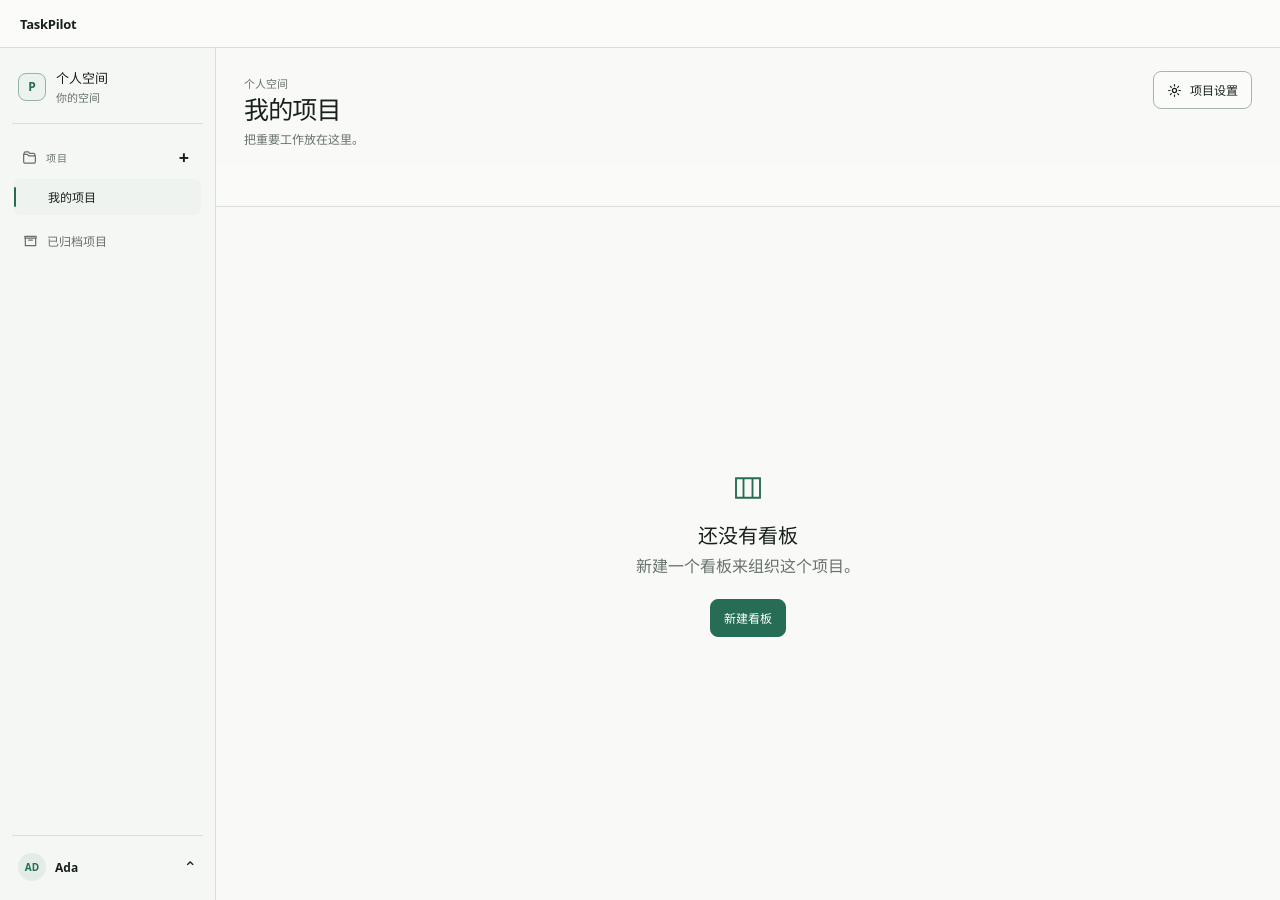
personal Workspace Project home › creates a Project with one request id and edits its real fields
Click the button named "新建项目": click(184, 157) [169,142,199,172]
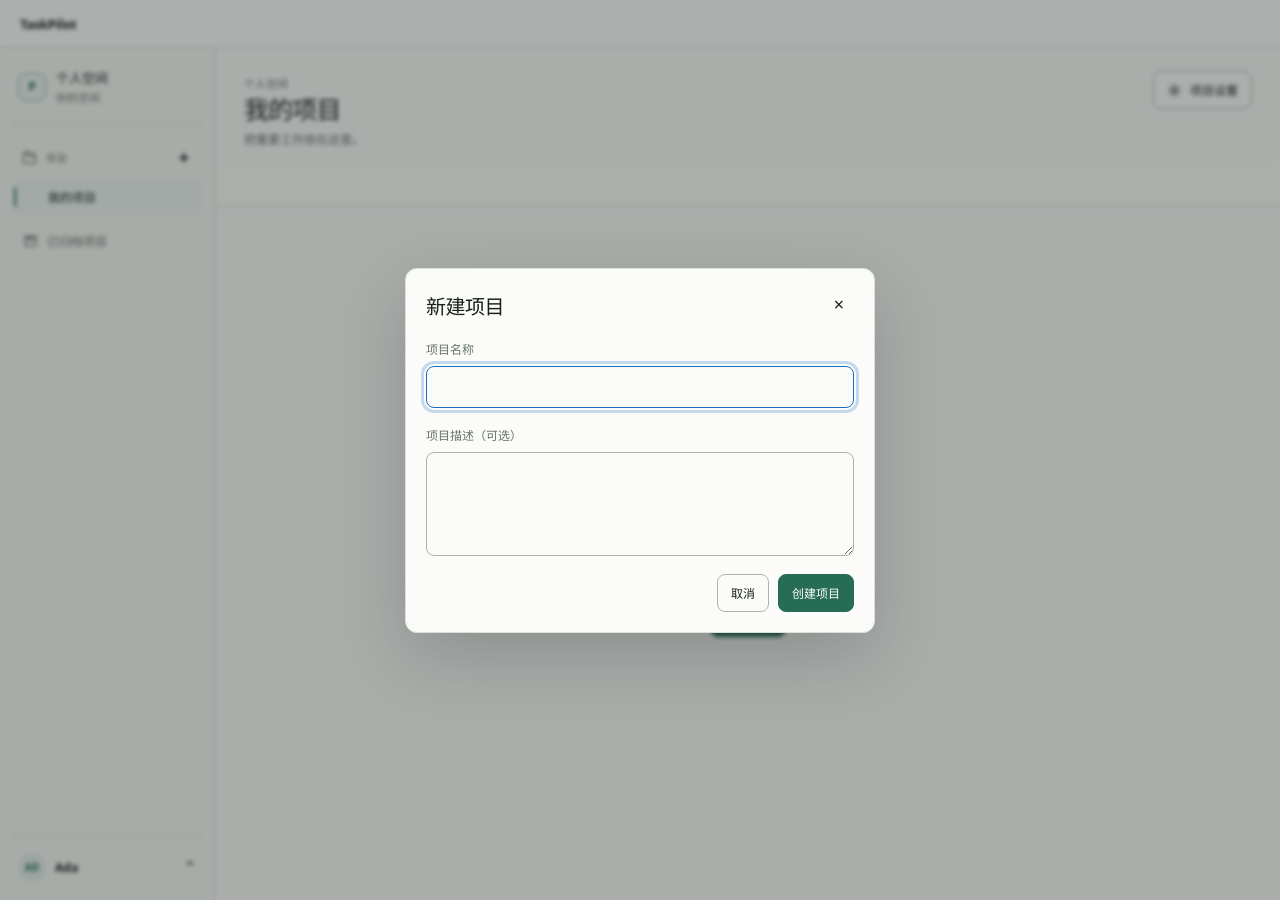
In the field labelled "项目名称": (640, 386) [426,366,854,408], type "发布准备"
In the text box labelled "项目描述（可选）": (640, 504) [426,452,854,556], type "发布前检查"
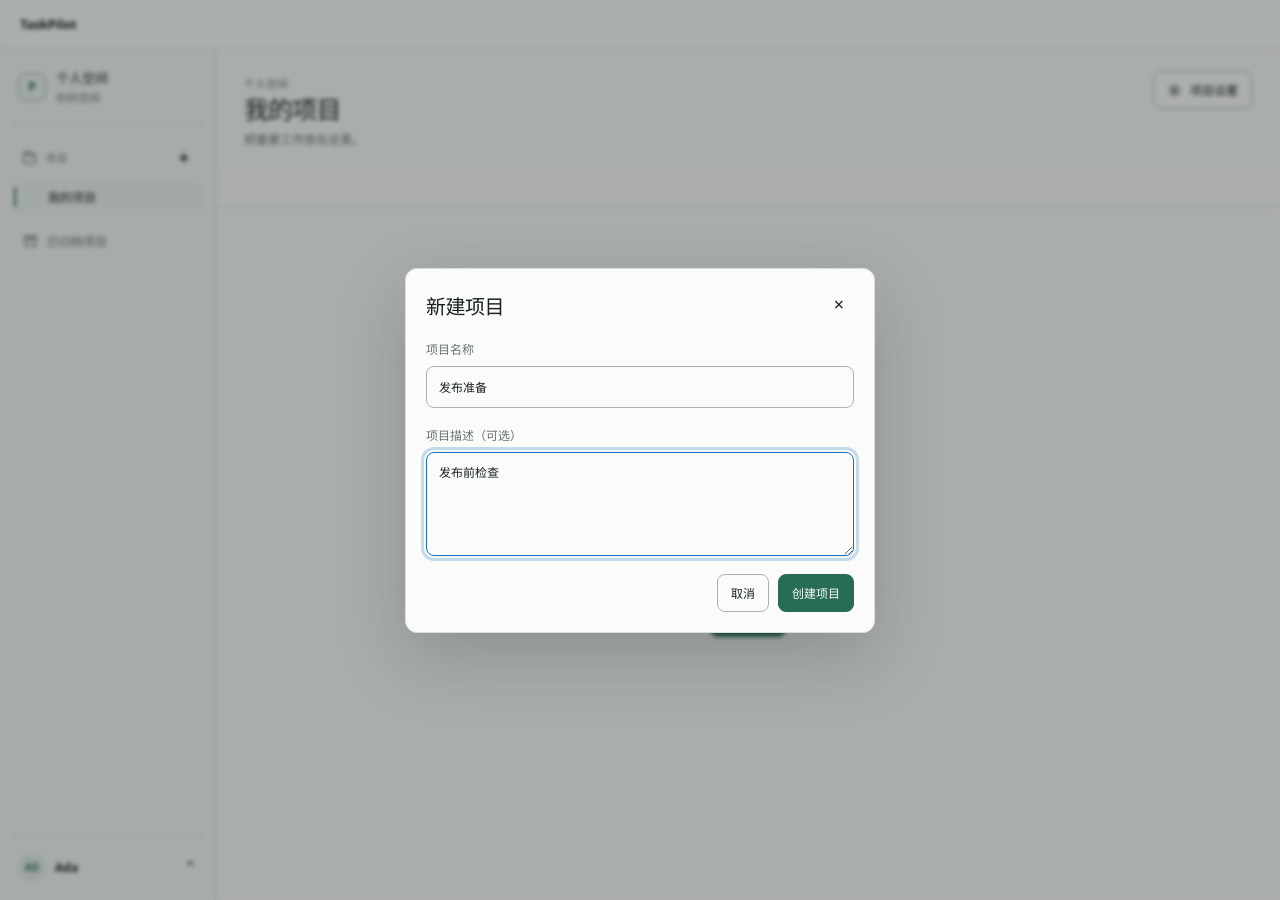
Click the button "创建项目": click(816, 592) [778,574,854,612]
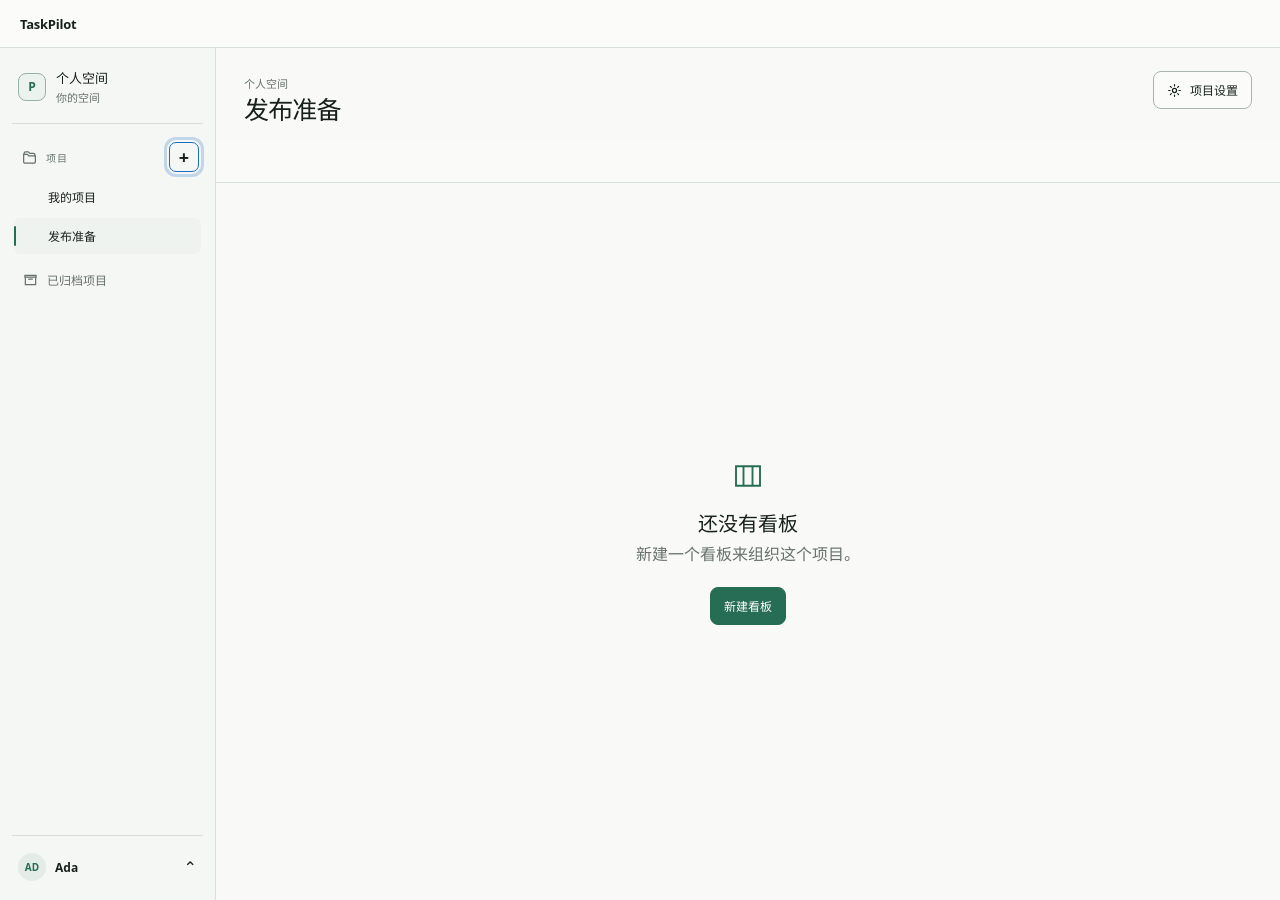
Click the button "项目设置": click(1202, 90) [1153,71,1252,109]
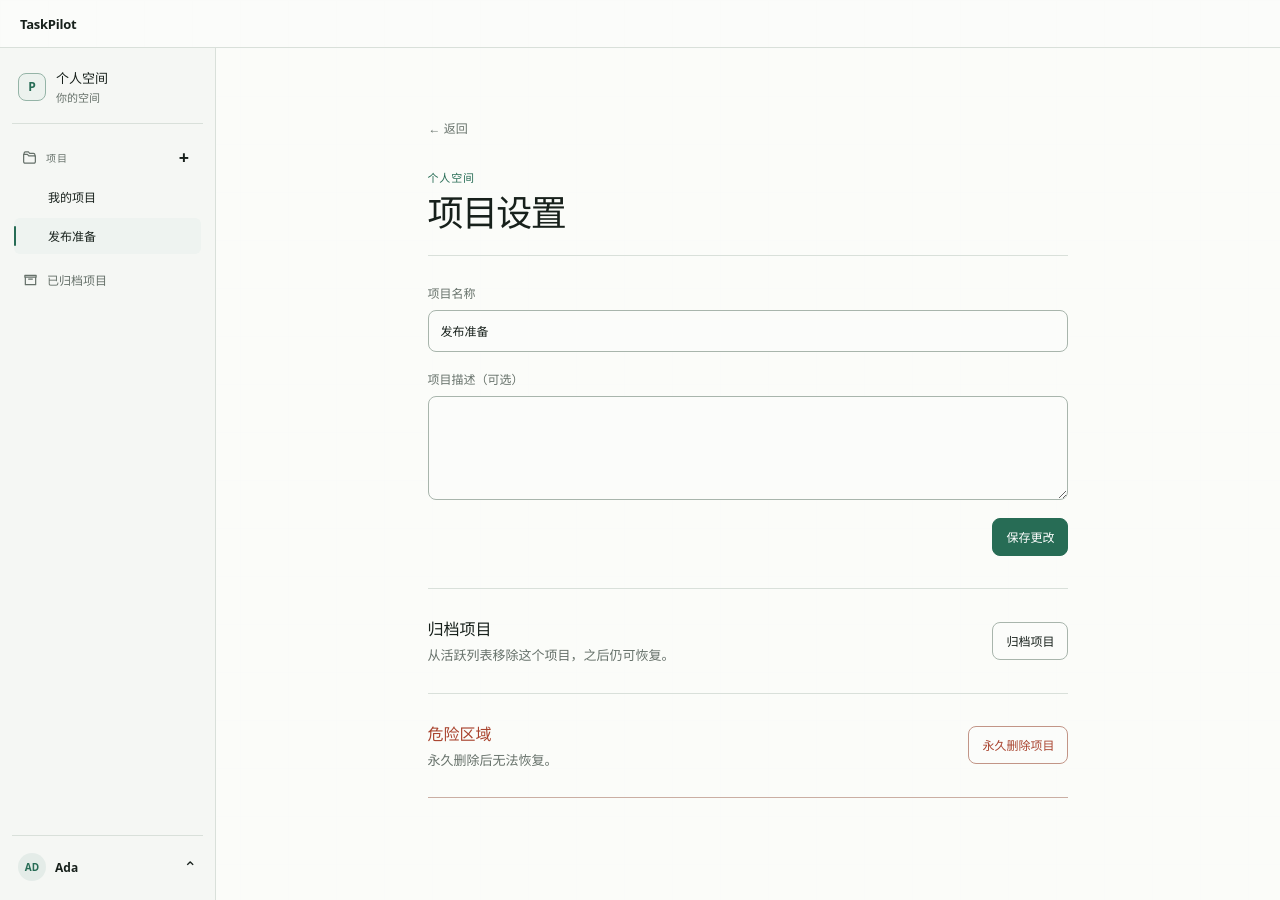
Replace the text in the field labelled "项目名称" with "发布上线": (748, 331) [428,310,1068,352]
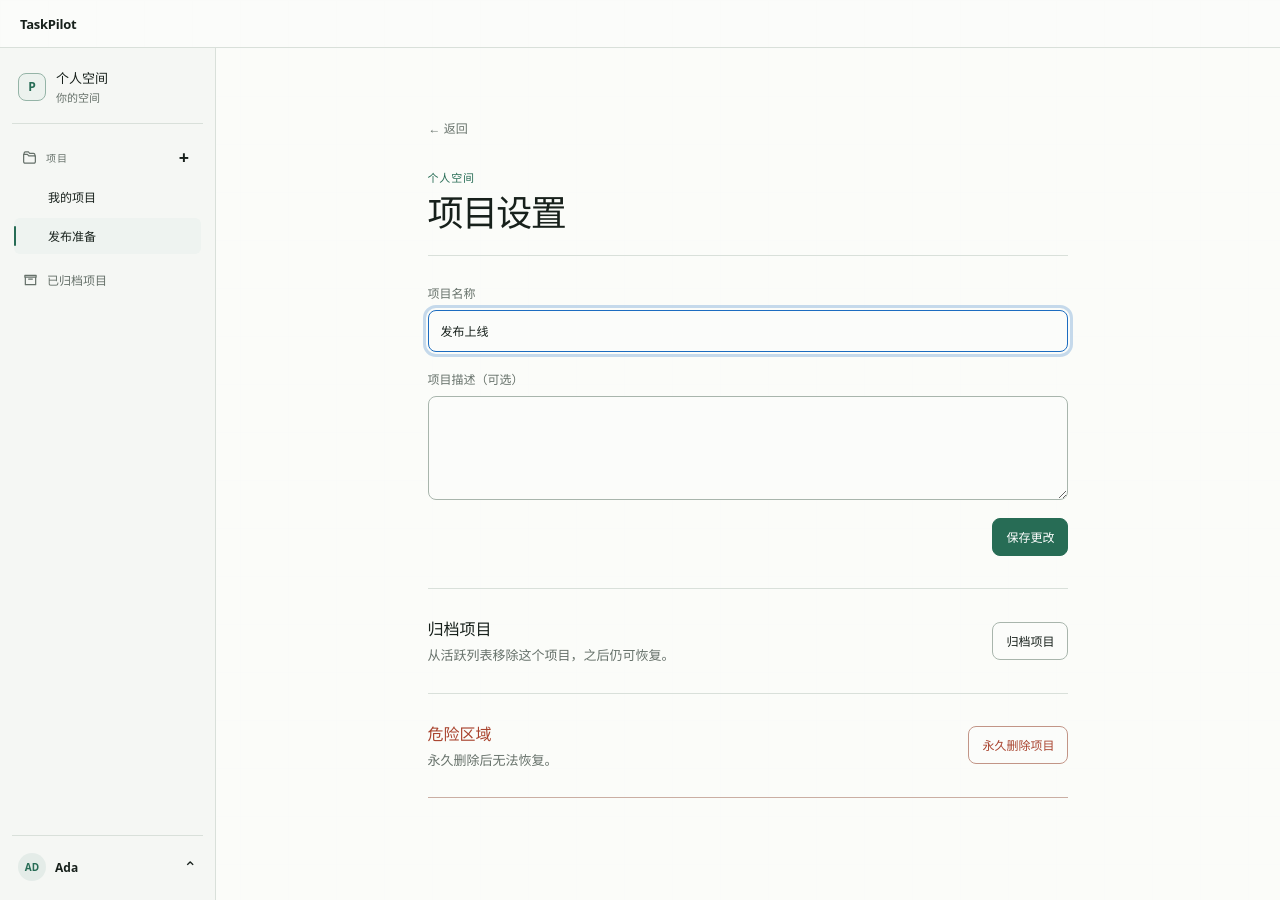
Click the button "保存更改": click(1030, 537) [992,518,1068,556]
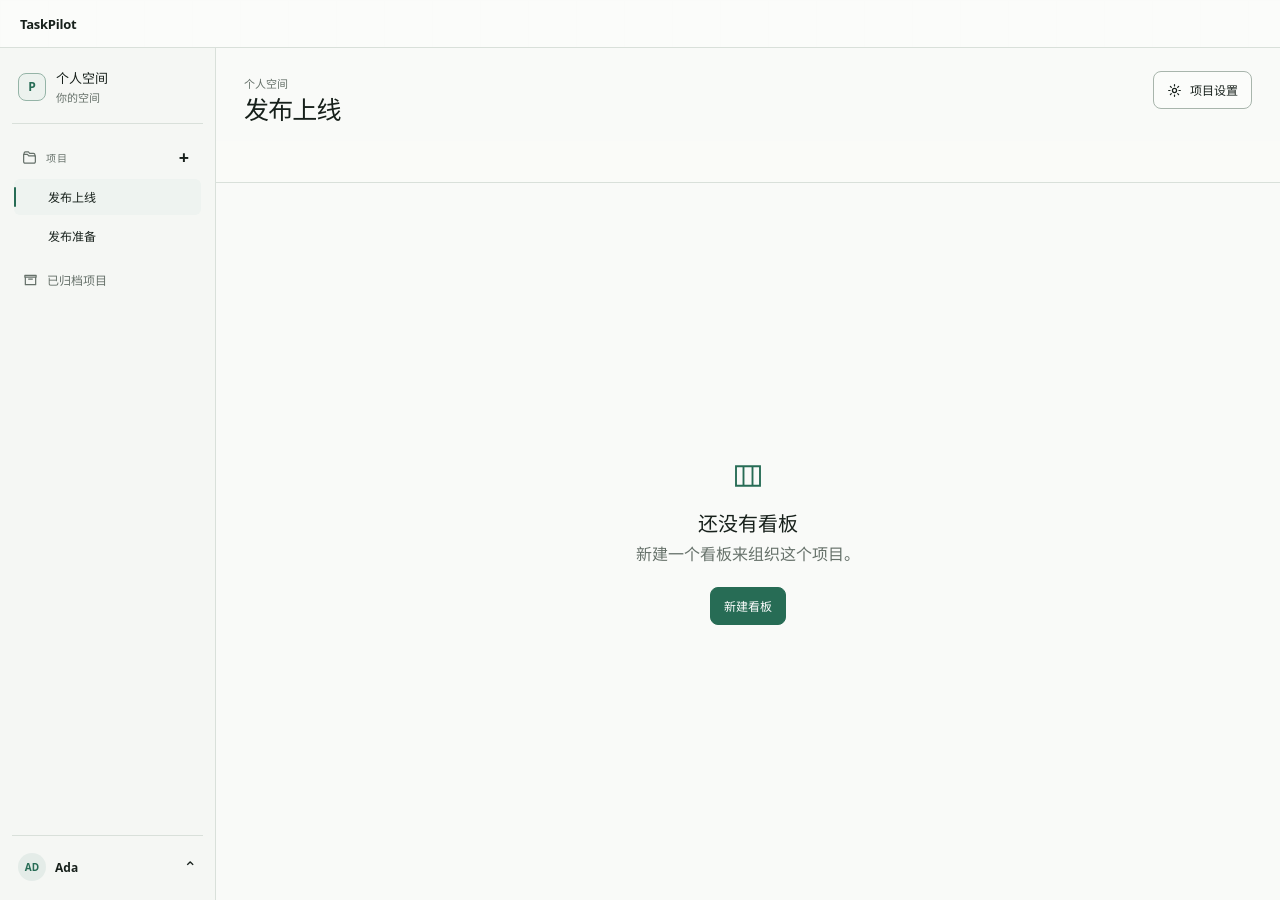
Expected: the heading "发布上线" is shown, [244,96,340,124]
